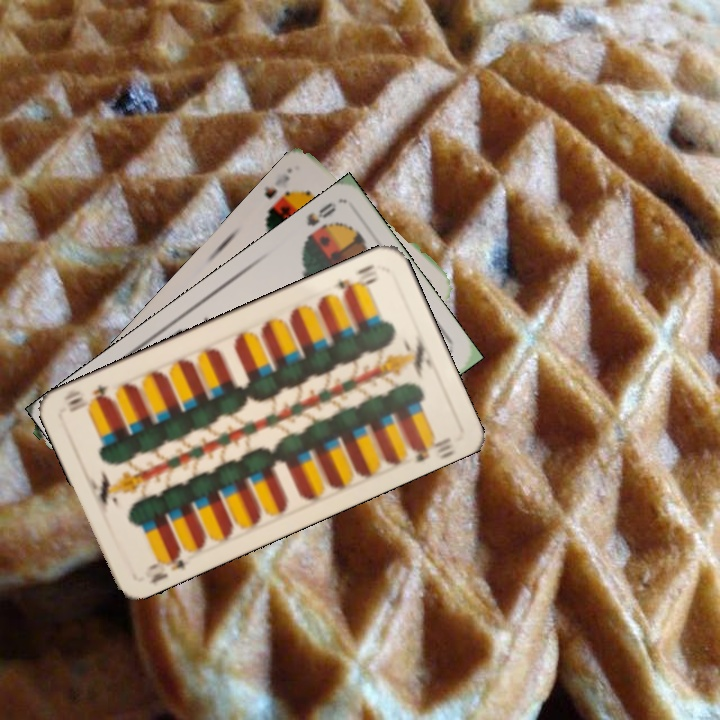E10: (140, 544, 188, 586), (333, 260, 381, 299)
SO: (299, 198, 339, 247), (263, 164, 296, 220)
